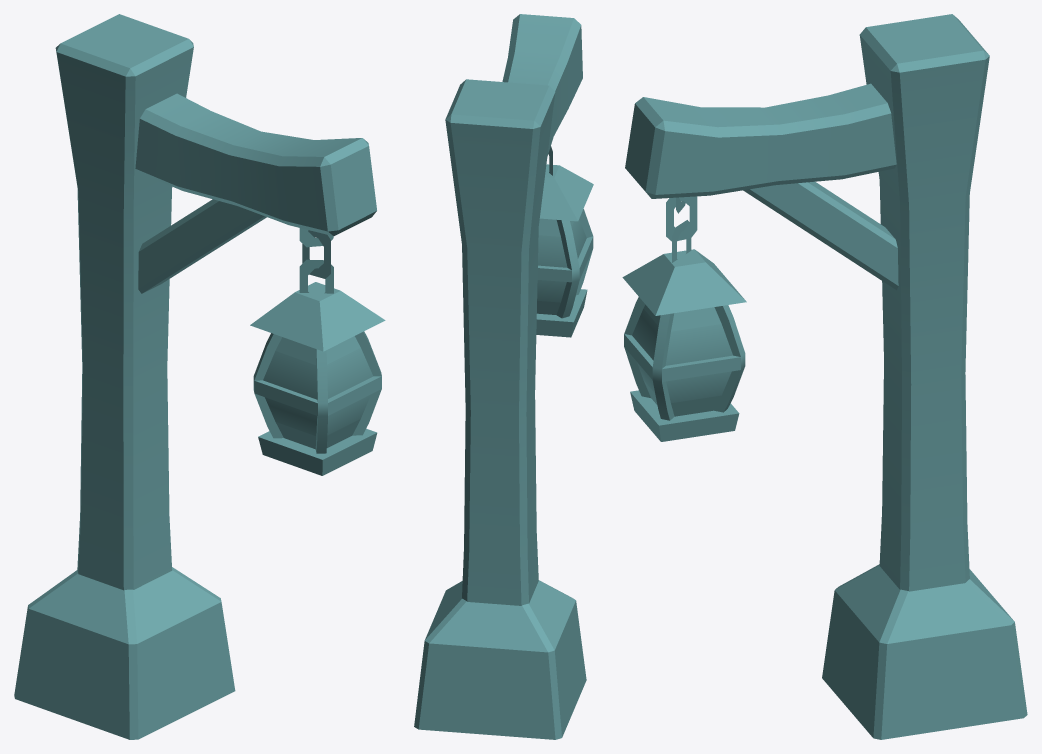
Rendered from lamp.fbx.
3 renders of one model, left to right at view 1: azimuth 30°, elevation 25°; view 2: azimuth 150°, elevation 25°; view 3: azimuth 270°, elevation 25°, orthographic. The views are drawn at different scales.
Parts seen in each view (by area): view 1: lamp6; view 2: lamp6; view 3: lamp6.
Boxes of the visible parts, left/top/right/bottom form: lamp6: left=14, top=14, right=385, bottom=739; lamp6: left=414, top=14, right=593, bottom=739; lamp6: left=622, top=14, right=1027, bottom=739.
Size of the model in its own units: 0.1612 by 0.4658 by 0.26.
